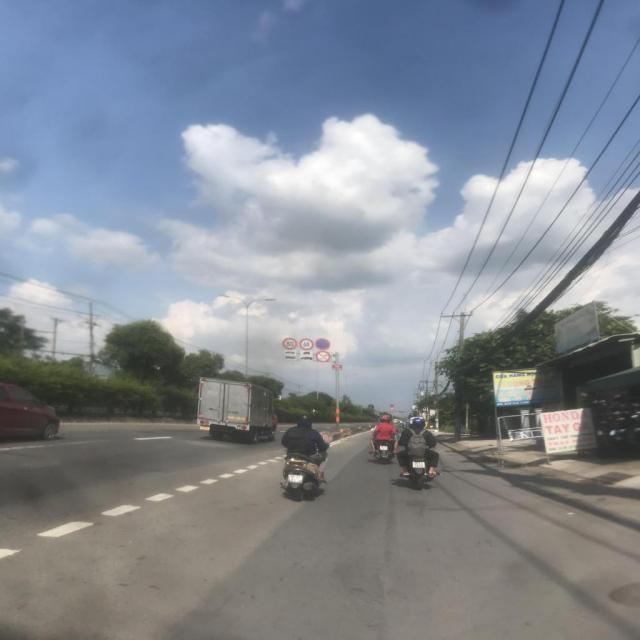cam_dung_xe_va_do_xe: (315, 338, 330, 351), (390, 404, 394, 407)
cam_xe_2_banh_va_xe_3_banh_co_dong_co: (315, 350, 330, 362), (391, 408, 394, 410)
khac: (283, 350, 297, 356), (284, 354, 297, 360), (300, 355, 313, 361), (300, 351, 312, 356)
toc_do_toi_da_60: (299, 338, 313, 351)
toc_do_toi_da_80: (282, 338, 298, 349)
